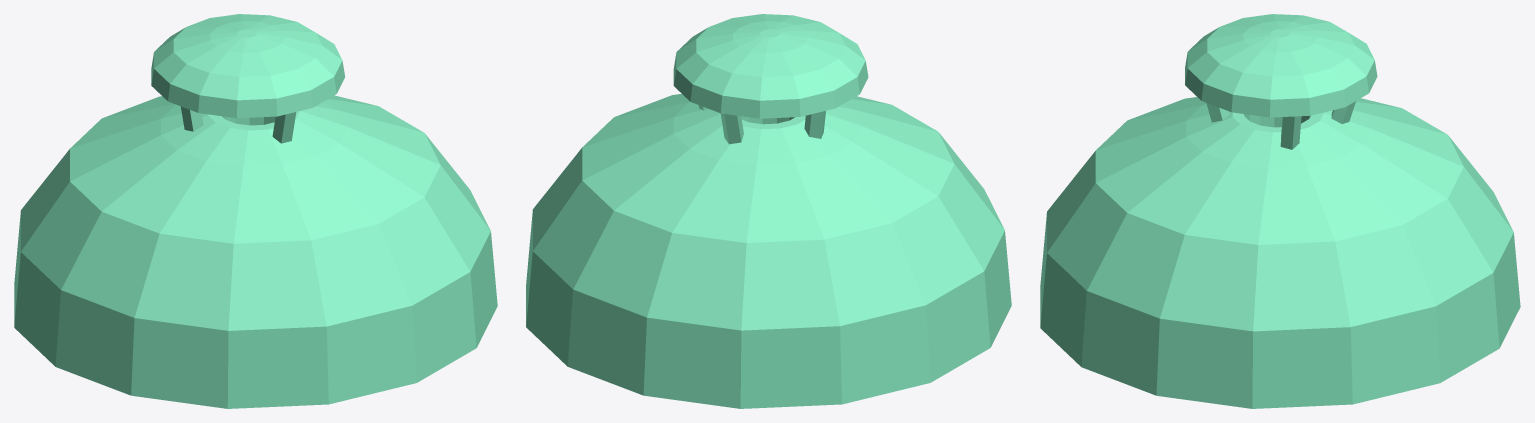
The model's file is casa 1_COLORES_BASE.fbx.
3 renders of one model, left to right at view 1: azimuth 30°, elevation 25°; view 2: azimuth 150°, elevation 25°; view 3: azimuth 270°, elevation 25°, orthographic.
Visible parts, largest first — view 1: base, teulat, pata1; view 2: base, teulat, pata1.001, pata.001; view 3: base, teulat, pata.
Boxes of the visible parts, box(x1,y1,x2,y2) form: base: box(14, 95, 497, 408); teulat: box(151, 14, 344, 118); pata1: box(272, 112, 296, 143); base: box(526, 93, 1011, 408); teulat: box(673, 14, 868, 118); pata1.001: box(720, 113, 743, 144); pata.001: box(804, 111, 825, 138); base: box(1040, 97, 1520, 408); teulat: box(1185, 14, 1377, 117); pata: box(1280, 116, 1301, 149).
Size of the model in its own units: 653 by 405 by 649.
